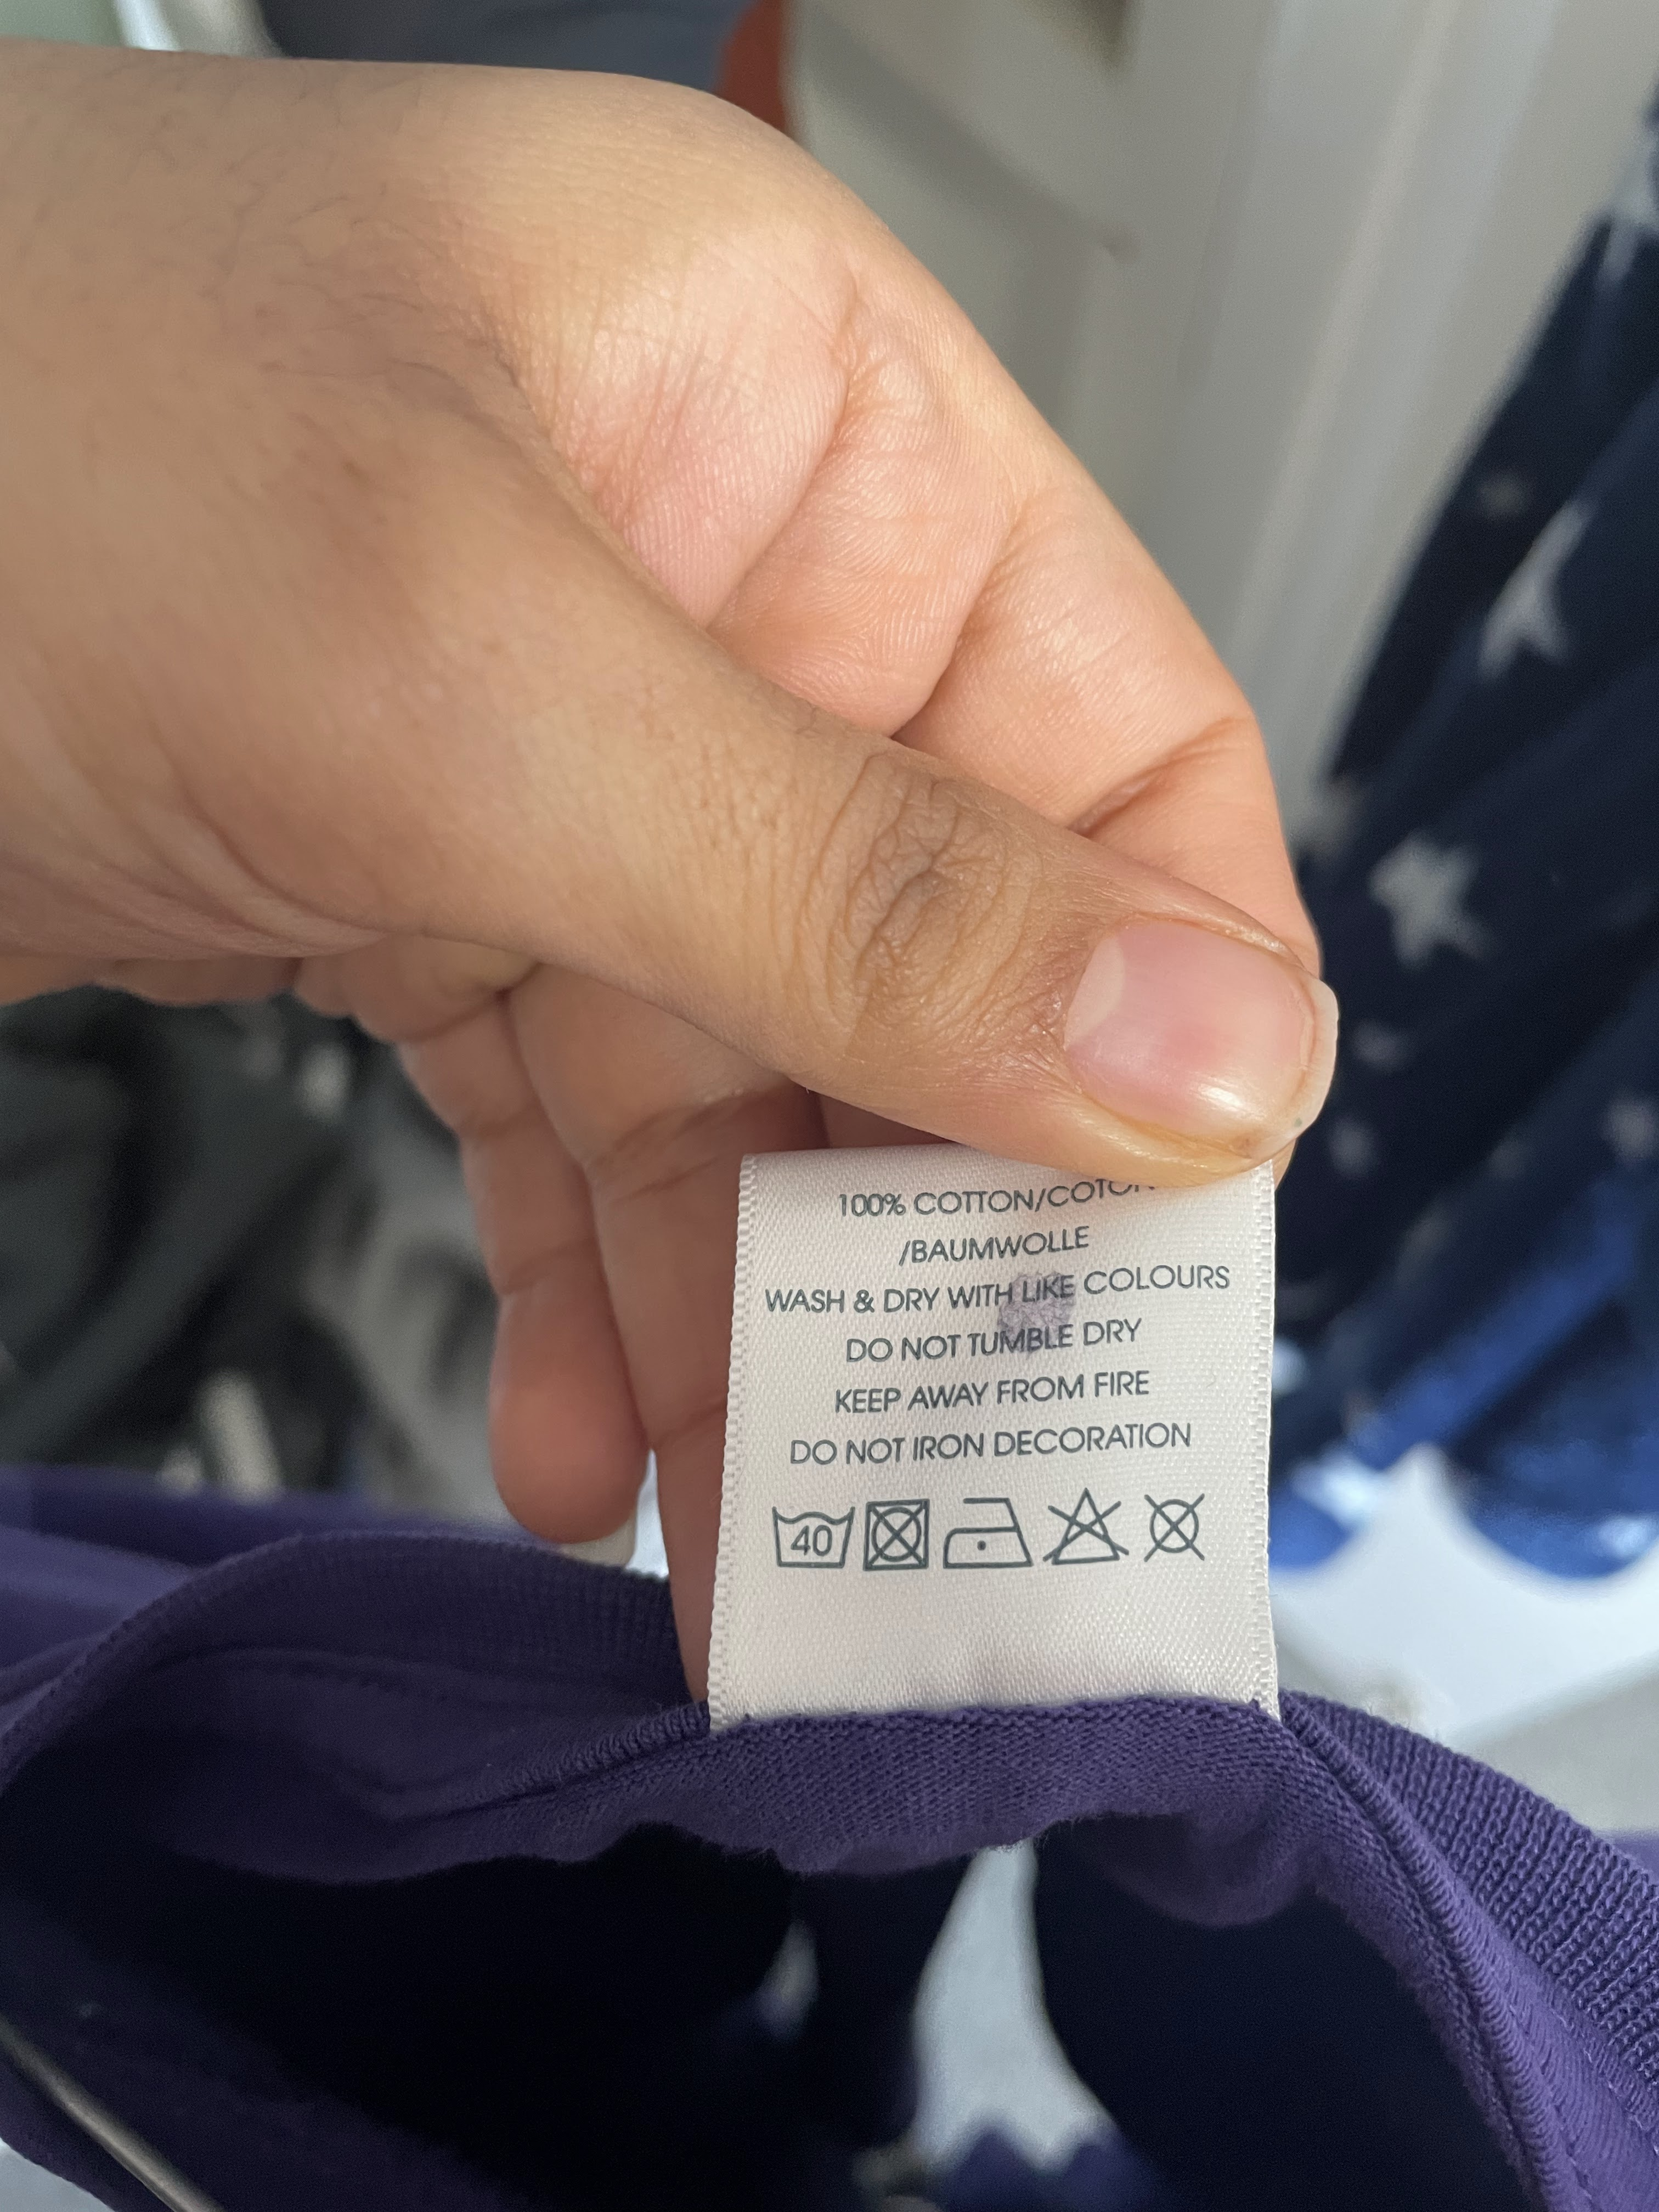do not bleach: (1047, 1482, 1138, 1583)
do not dry clean: (1126, 1460, 1218, 1592)
do not tumble dry: (856, 1484, 948, 1588)
iron low temp: (934, 1474, 1040, 1587)
wash at or below 40: (763, 1489, 859, 1588)
